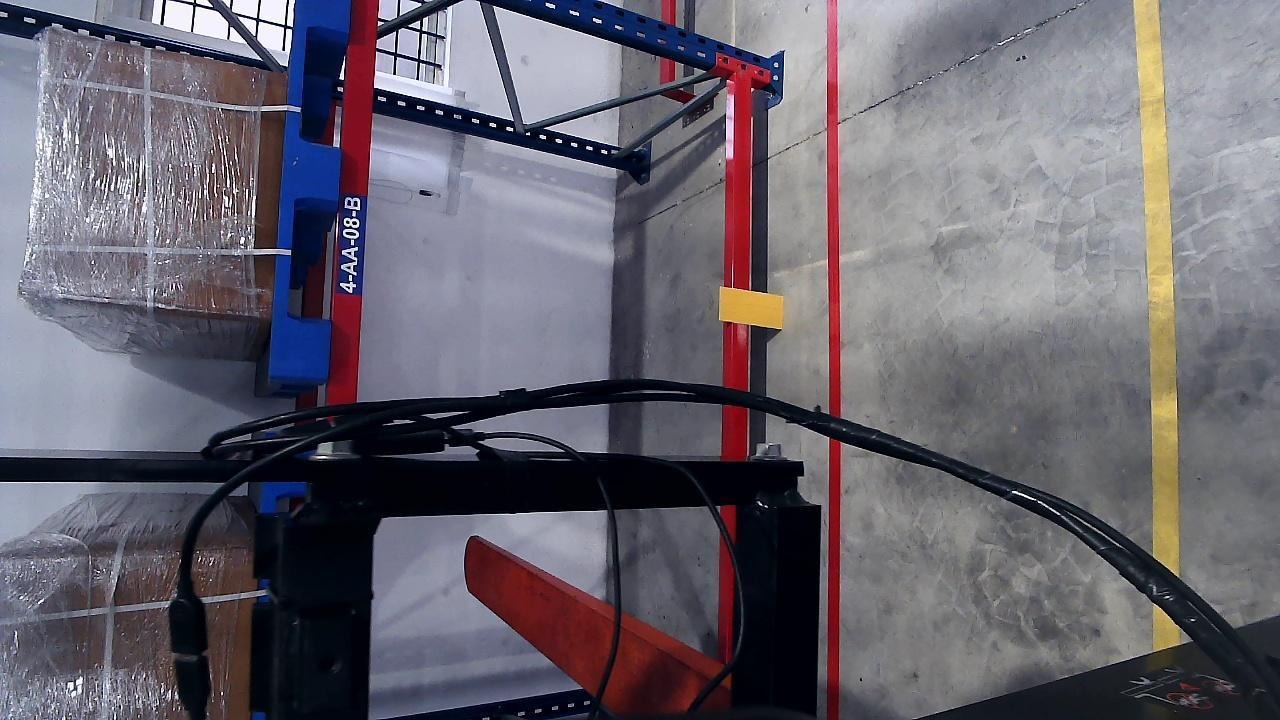red_line: (823, 0, 842, 720)
yellow_line: (1135, 1, 1181, 583)
